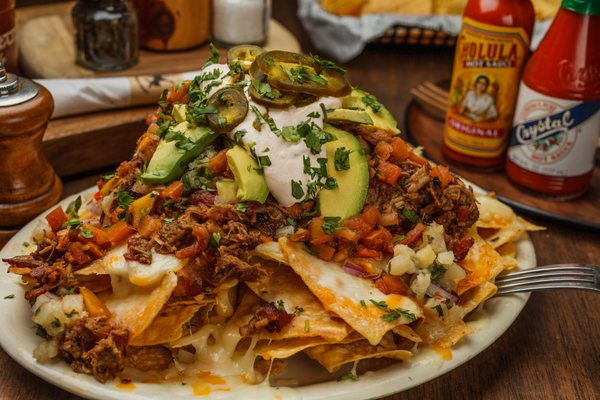burger: (457, 262, 599, 320)
pizza: (211, 0, 271, 48)
